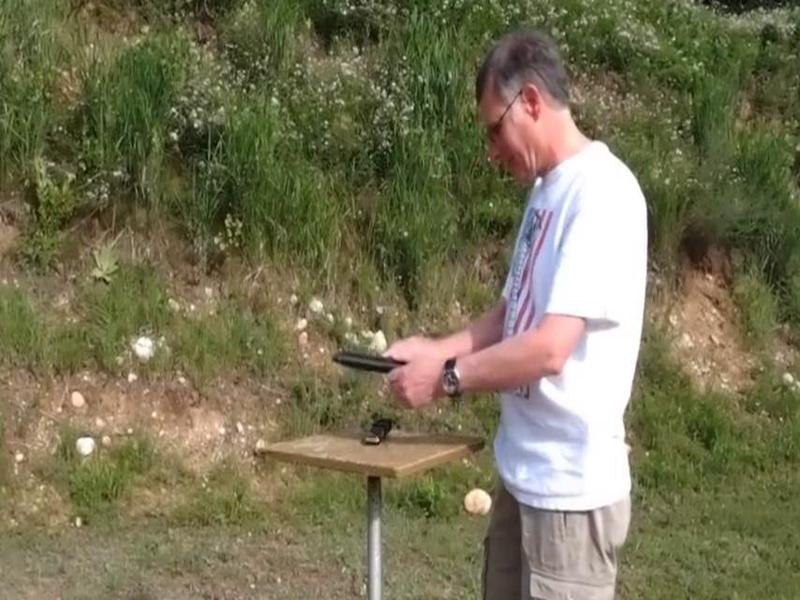Pistola: (324, 327, 428, 406)
